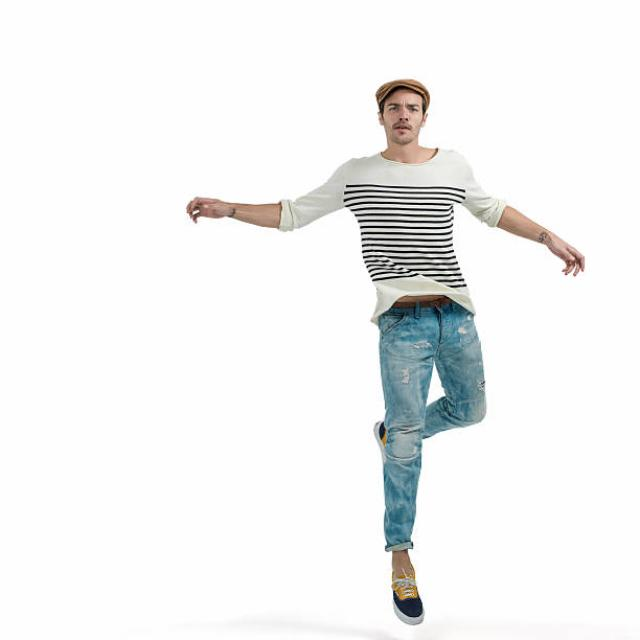Edited images: (166, 68, 599, 626)
